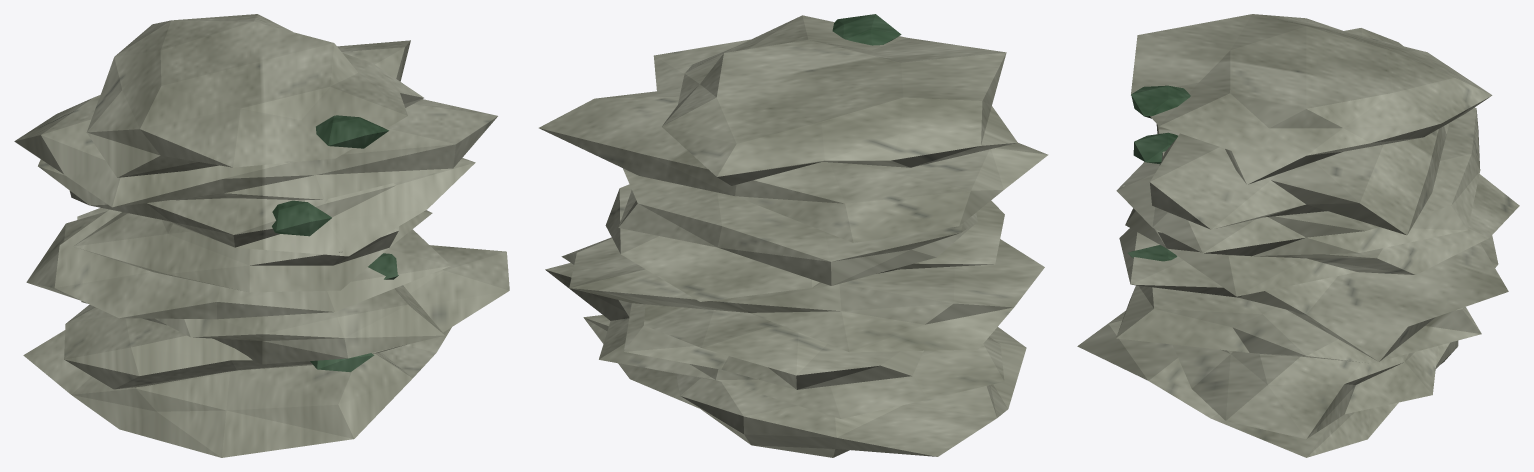
File: 0047_layered_rock_22.glb
The picture shows the model from 3 angles, left to right: view 1: azimuth 30°, elevation 25°; view 2: azimuth 150°, elevation 25°; view 3: azimuth 270°, elevation 25°; orthographic projection. The views are drawn at different scales.
Parts seen in each view (by area): view 1: stone_light, moss; view 2: stone_light, moss; view 3: stone_light, moss.
Part boxes in pixels (bbox=[...]): stone_light: bbox=[14, 14, 509, 457]; moss: bbox=[272, 115, 398, 372]; stone_light: bbox=[539, 15, 1048, 457]; moss: bbox=[832, 14, 901, 45]; stone_light: bbox=[1077, 14, 1519, 457]; moss: bbox=[1128, 85, 1190, 261].
Bounding box in the file's own units: 2.35 × 1.6 × 2.02.
2 materials, 2 textured.
